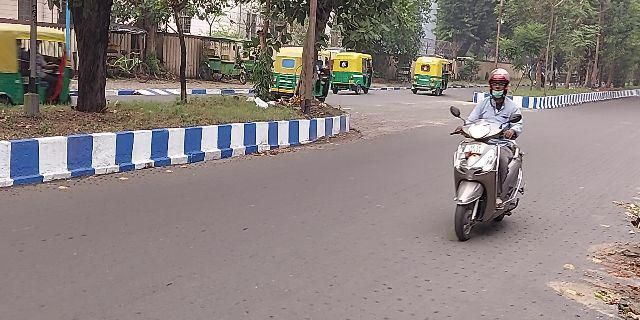Autorickshaw: (2, 21, 73, 102), (276, 50, 332, 99), (410, 55, 453, 95), (337, 53, 375, 93)
Motorbike: (445, 66, 531, 239)
